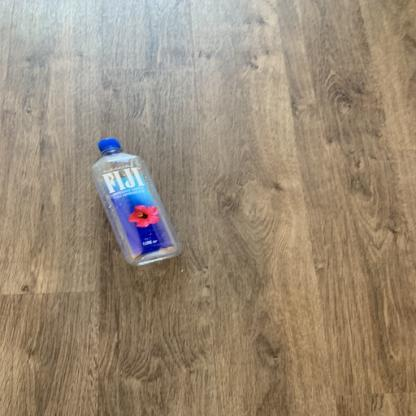trash: (86, 137, 182, 268)
